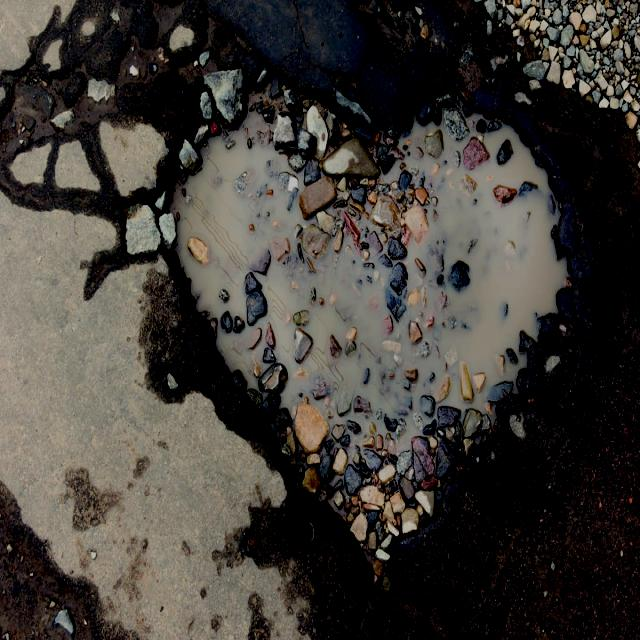Pothole: (129, 11, 581, 601)
